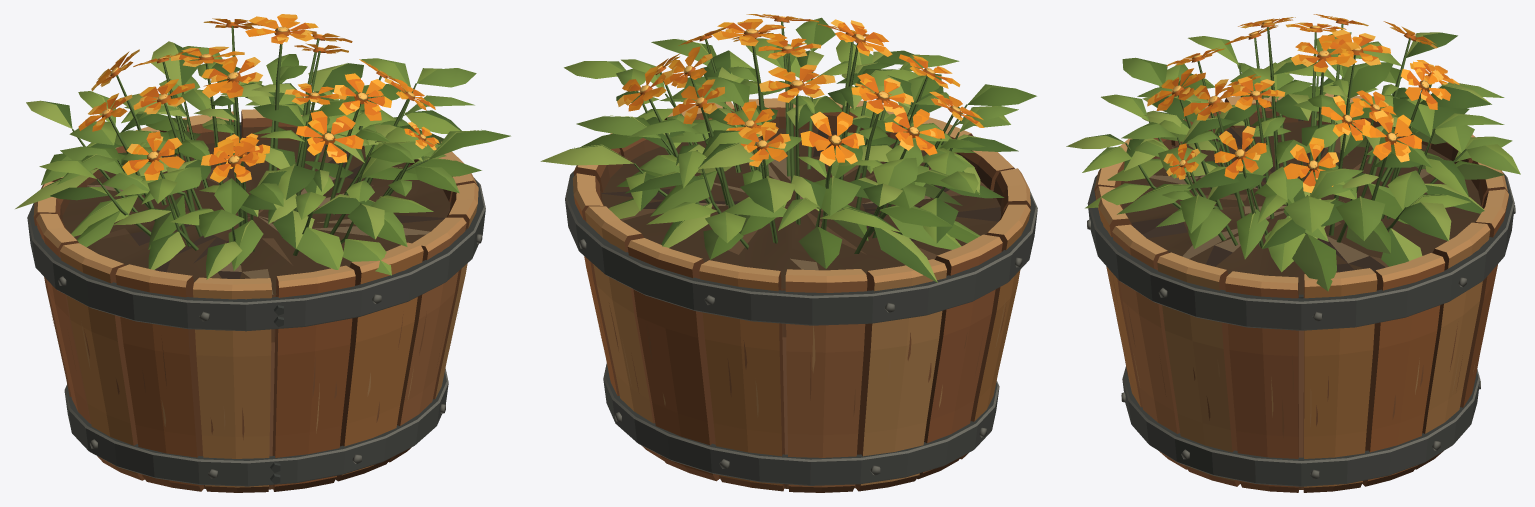
Rendered from wsc-prop-006-west-flower-tub.glb.
3 views of the same model, side by side, from view 1: azimuth 30°, elevation 25°; view 2: azimuth 150°, elevation 25°; view 3: azimuth 270°, elevation 25° (orthographic). The views are drawn at different scales.
Parts seen in each view (by area): view 1: WSC-PROP-006; view 2: WSC-PROP-006; view 3: WSC-PROP-006.
Part boxes in pixels (x1,y1,x2,y2): WSC-PROP-006: (15,14,510,492); WSC-PROP-006: (540,14,1037,492); WSC-PROP-006: (1066,14,1520,492).
Size of the model in its own units: 0.84 by 0.71 by 0.76.
